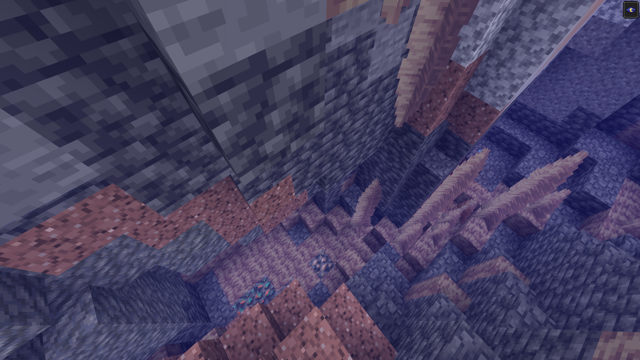copper: (229, 278, 276, 314)
iron: (308, 248, 335, 277)
